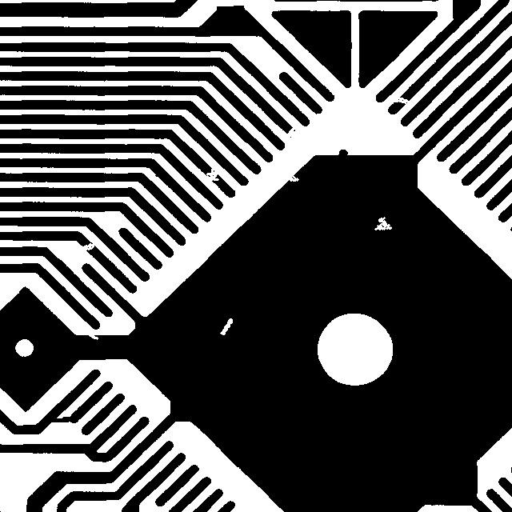mousebite: (278, 118, 308, 146), (280, 167, 306, 189), (81, 326, 106, 347)
open: (198, 160, 226, 188), (386, 89, 418, 112), (70, 235, 102, 258)
pin-hole: (366, 209, 399, 238), (212, 310, 240, 342)
short: (43, 407, 84, 430)
spur: (330, 142, 355, 166)
